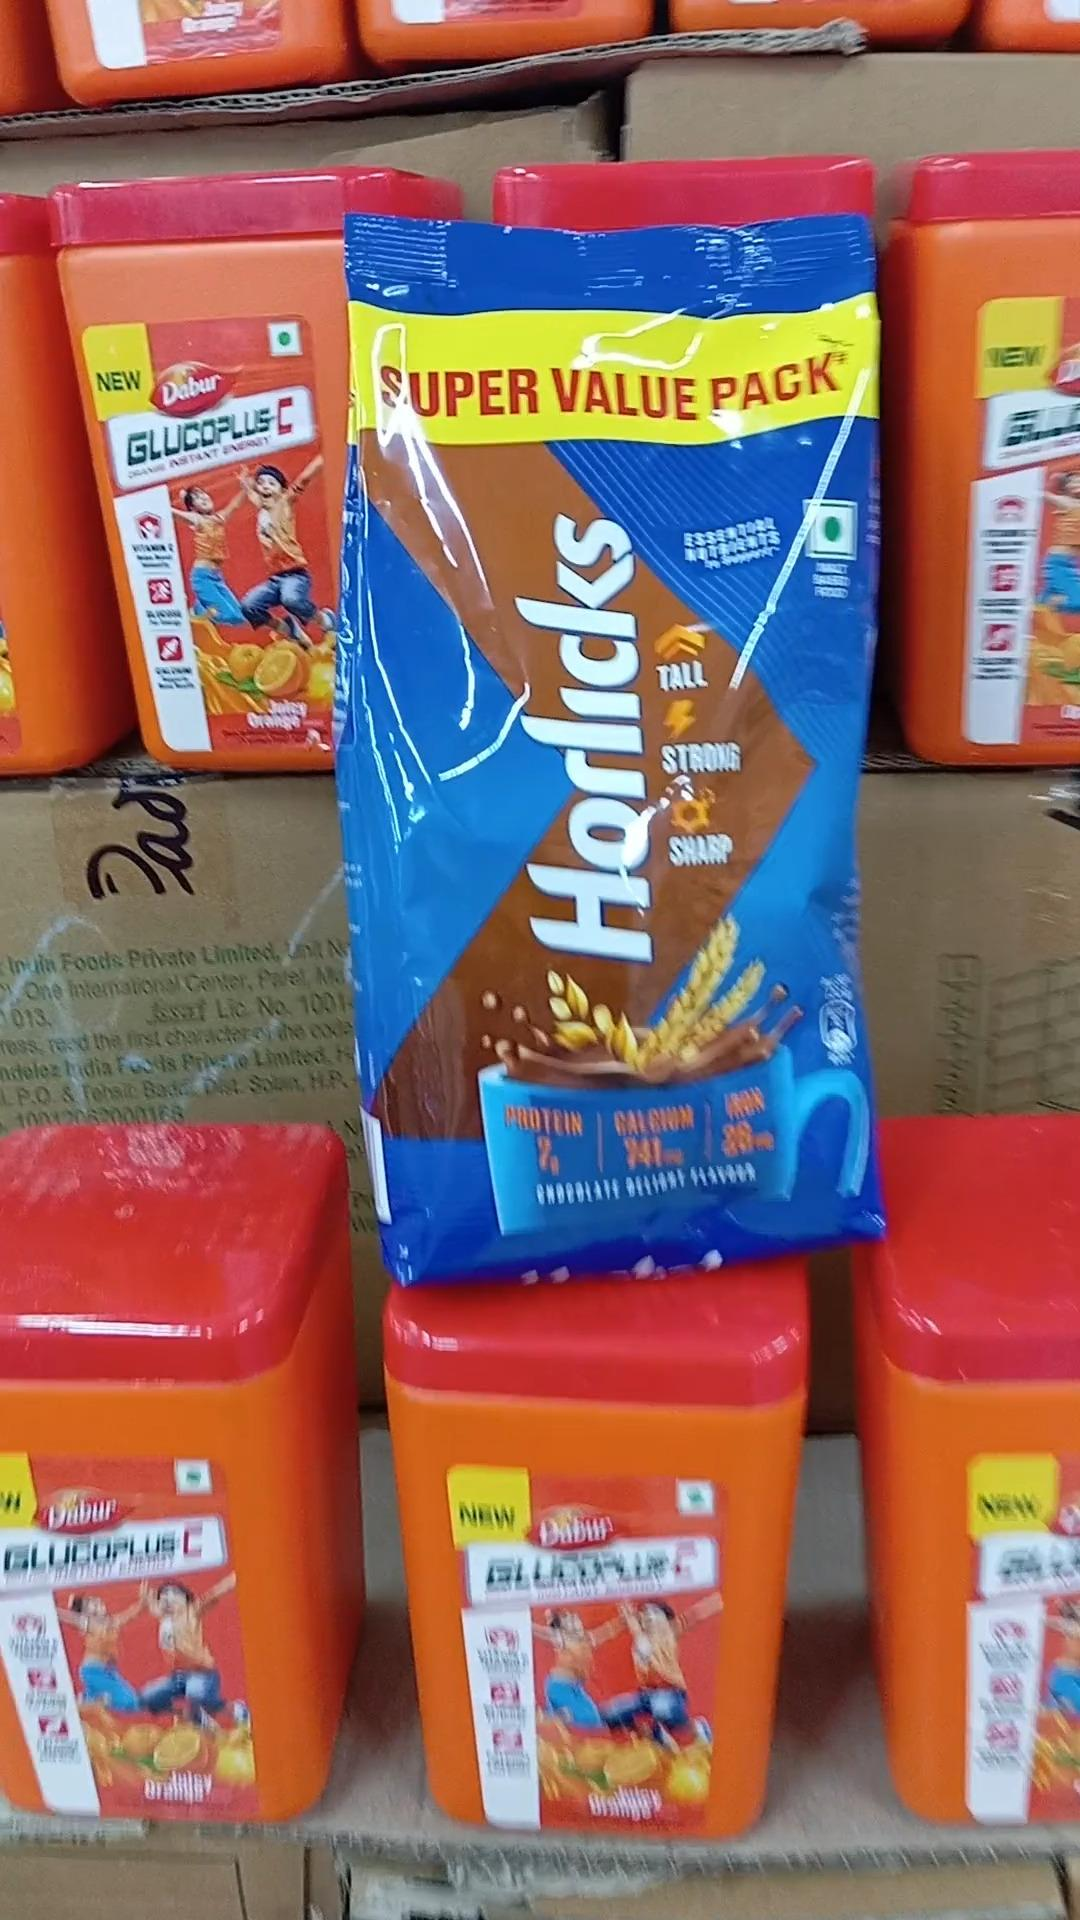HORLICK_CHOCOLATE_750_G_POUCH: (349, 229, 895, 1280)
